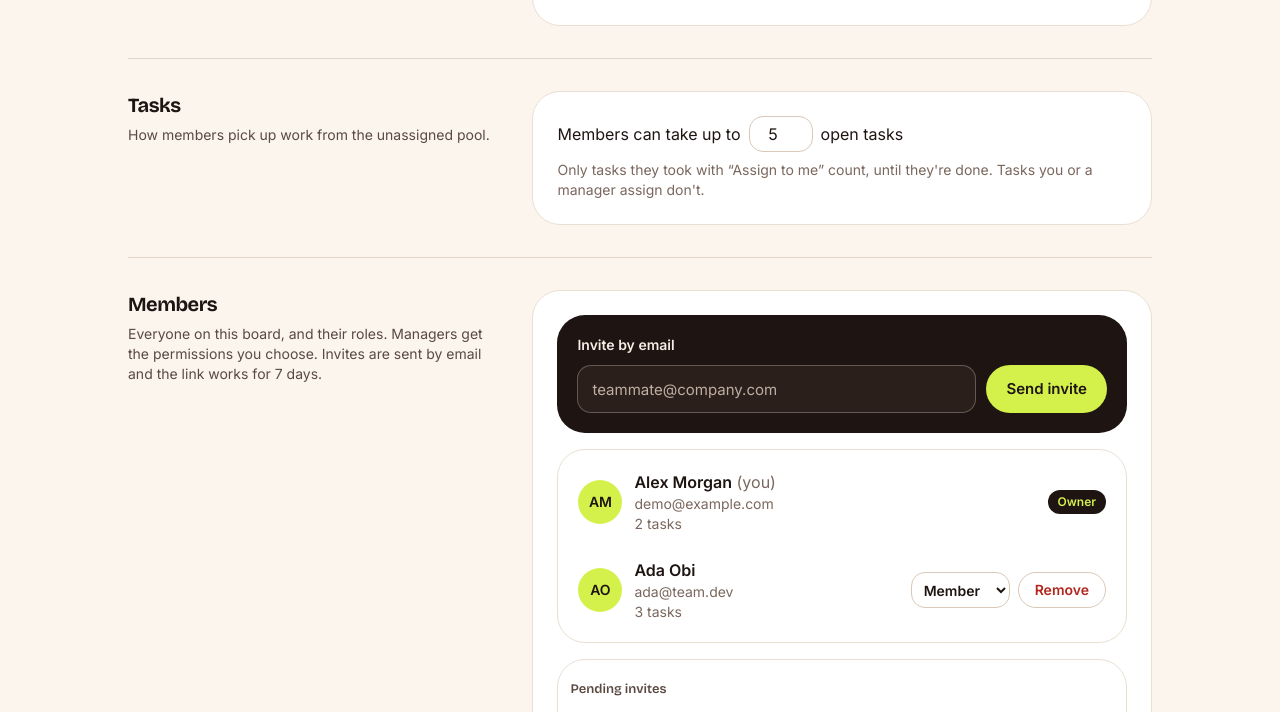
Test: ProjectSettingsContent: Members › invites: 'Invite sent to …', or 'sent it again' for a pending one, cleared and ready for the next
(page scrolled)
Type "New@Team.dev" into the field labelled "Invite by email" at (777, 389), box [577, 365, 976, 413]
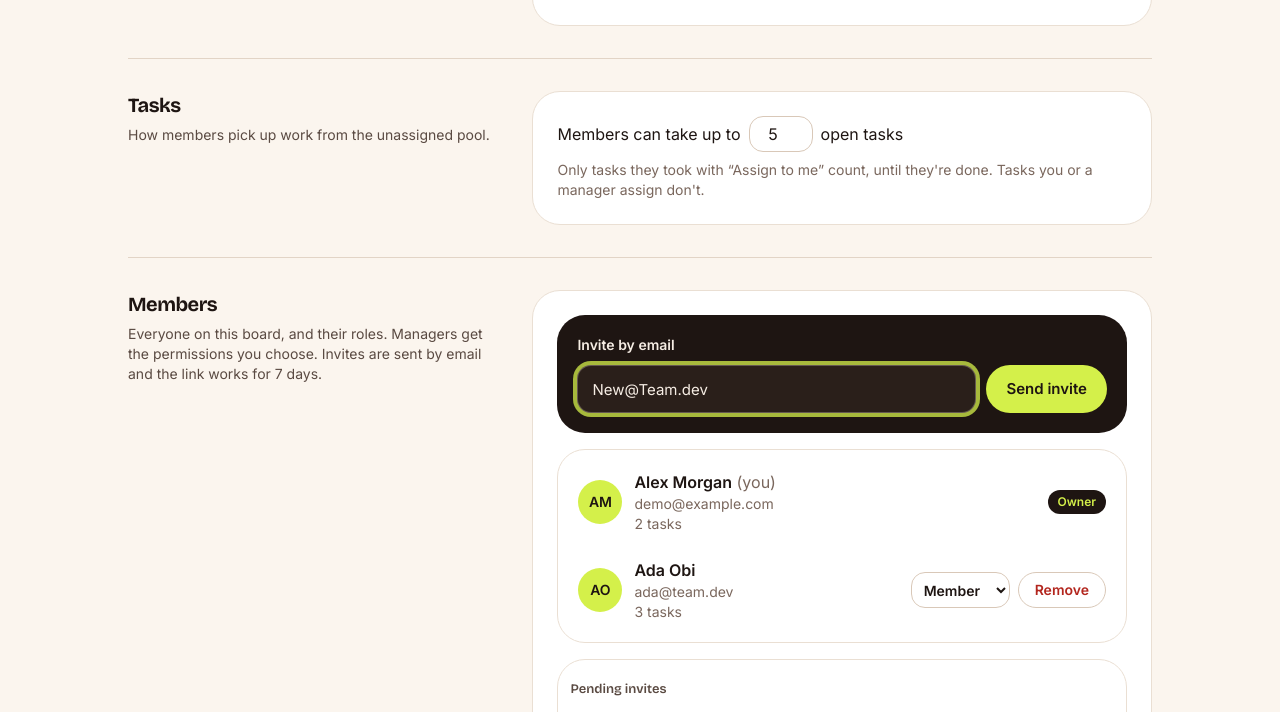
Click the button "Send invite" at (1047, 389), box [986, 365, 1107, 413]
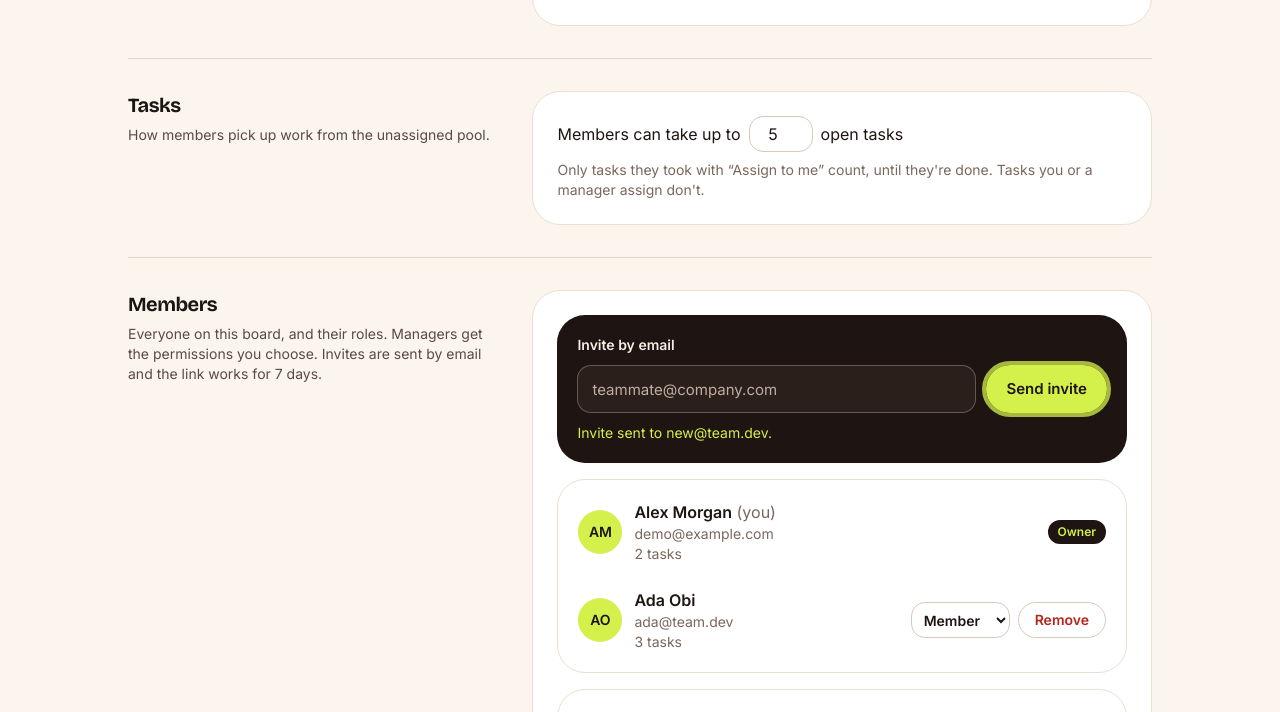
Expected: the text "Invite sent to new@team.dev." is shown, [577, 424, 772, 441]
Expected: the field labelled "Invite by email" is empty
Type "new@team.dev" into the field labelled "Invite by email" at (777, 389), box [577, 365, 976, 413]
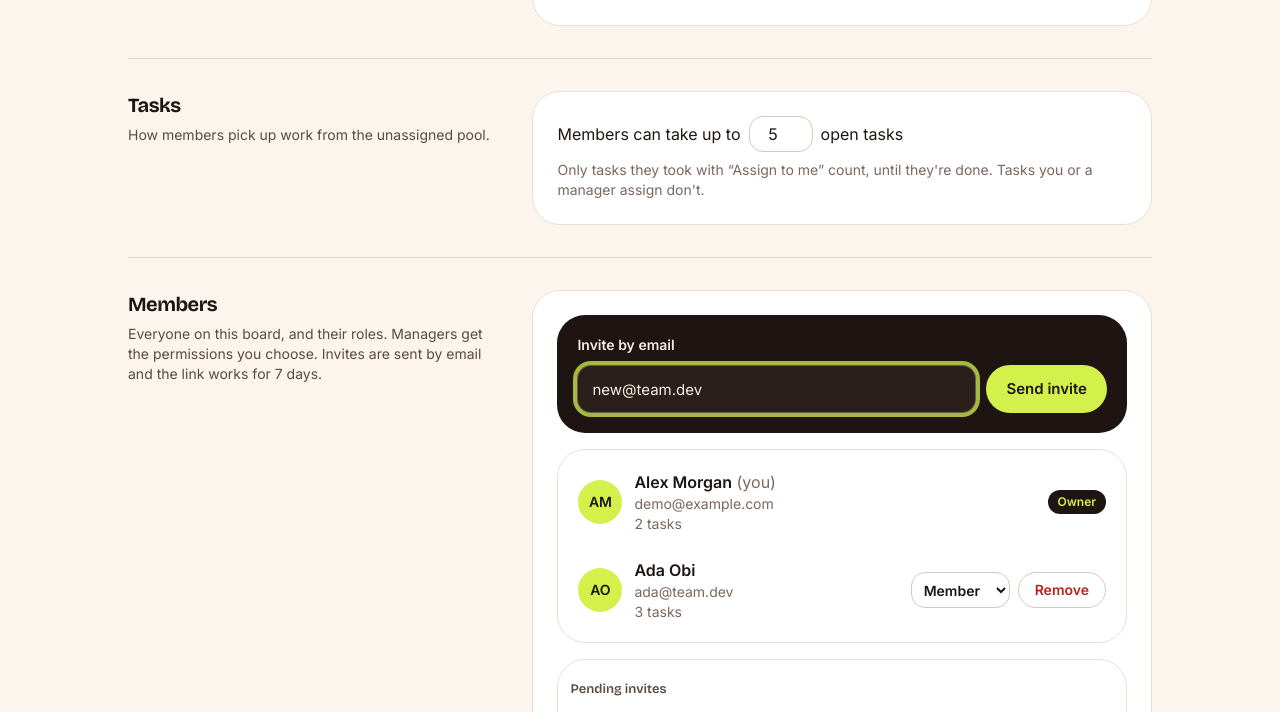
Click the button "Send invite" at (1047, 389), box [986, 365, 1107, 413]
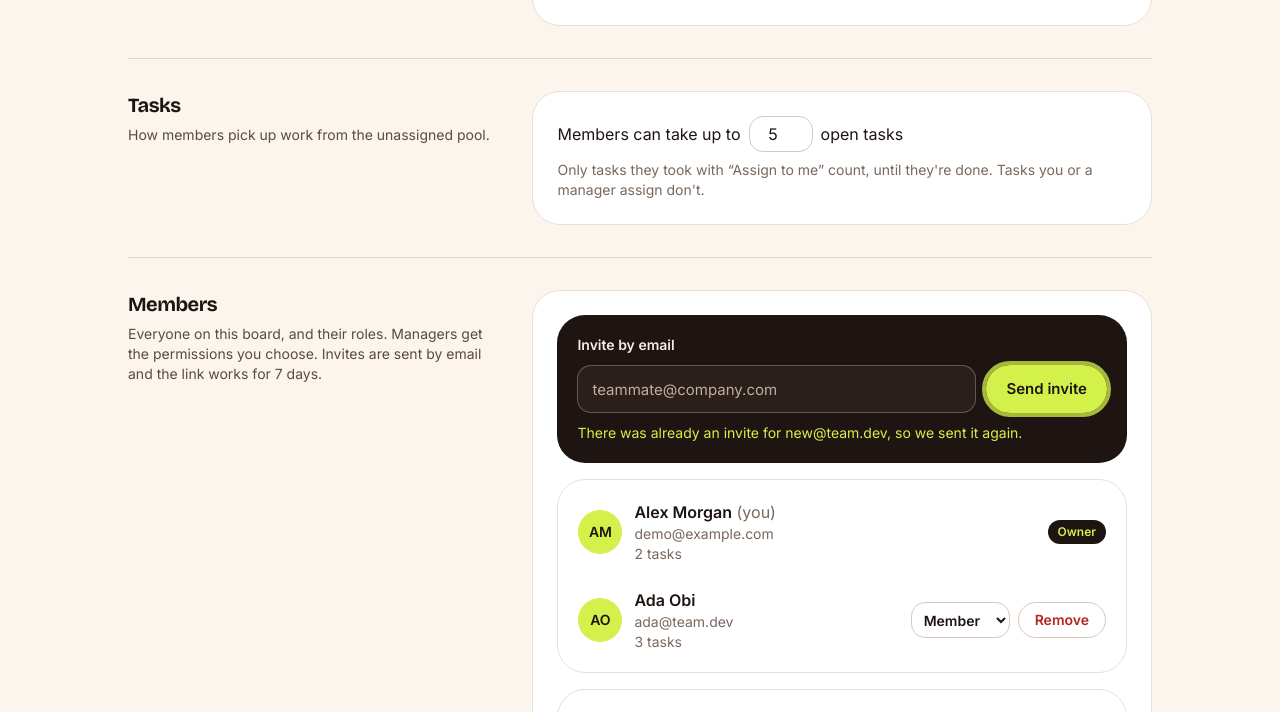
Expected: the text "There was already an invite for new@team.dev, so we sent it again." is shown, [577, 424, 1022, 441]
